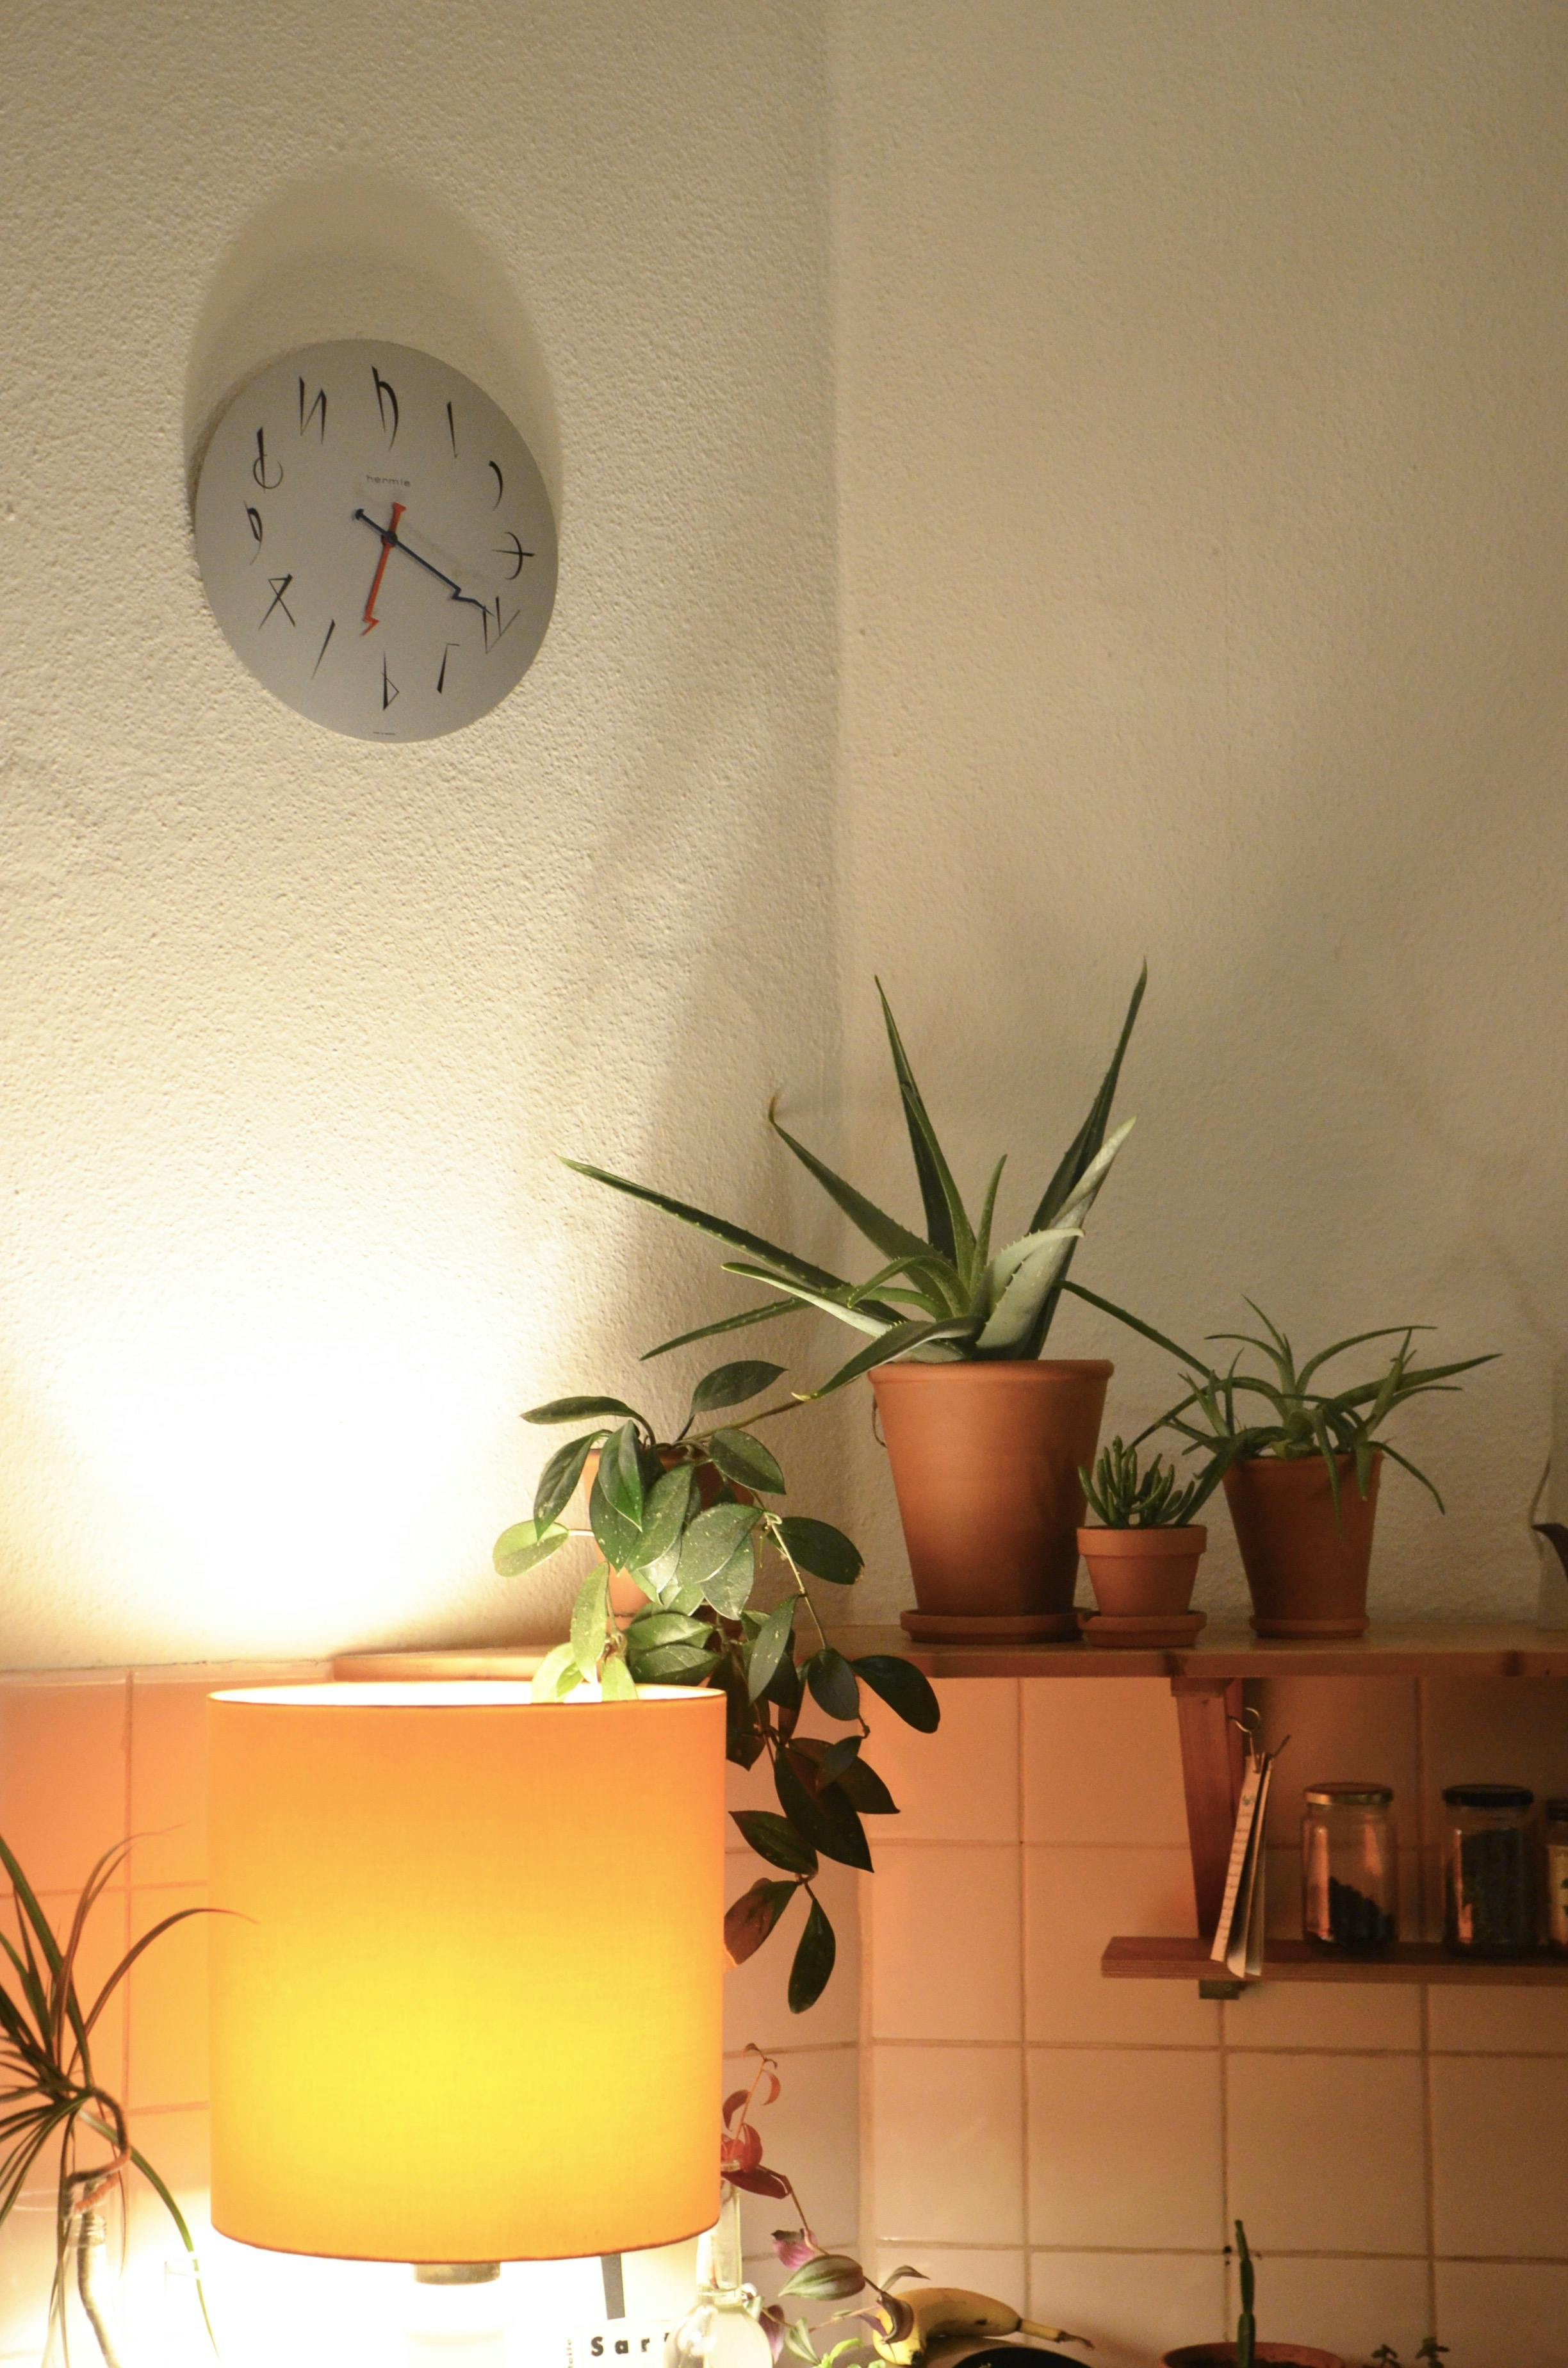clock: (89, 289, 653, 756)
